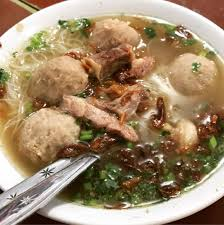bakso: (23, 22, 219, 174)
